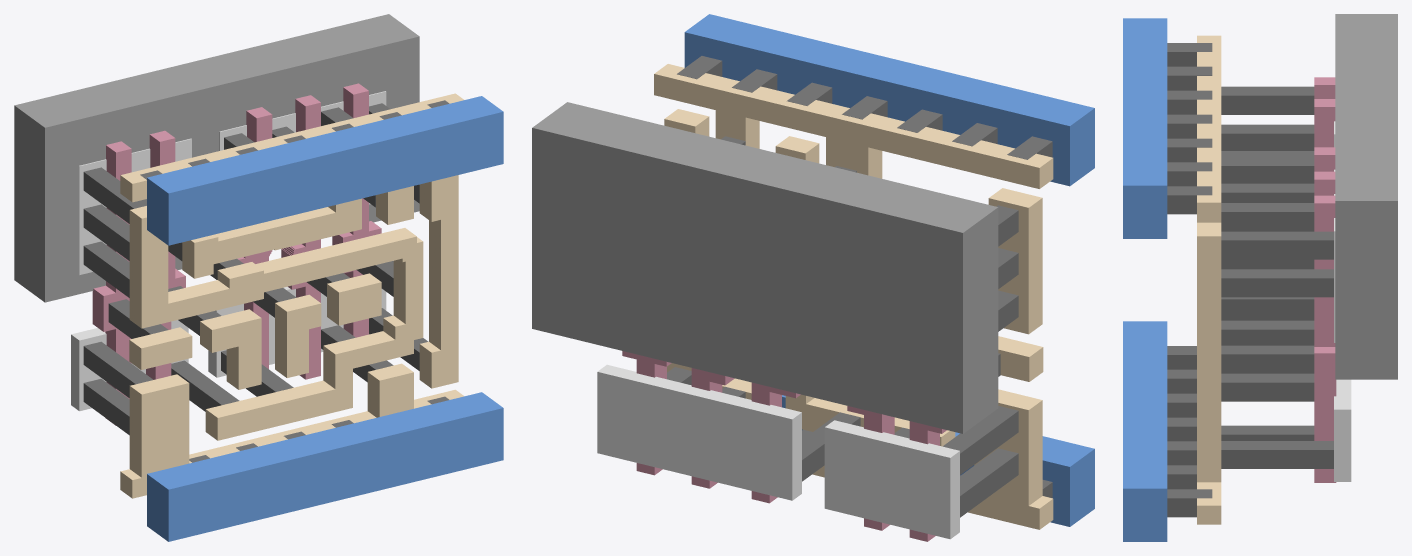
Rendered from sky130_fd_sc_hd__a22o_1.gds.gltf.
The picture shows the model from 3 angles, left to right: view 1: azimuth 30°, elevation 25°; view 2: azimuth 150°, elevation 25°; view 3: azimuth 270°, elevation 25°; orthographic projection. The views are drawn at different scales.
Parts seen in each view (by area): view 1: sky130_fd_sc_hd__a22o_1_li1, sky130_fd_sc_hd__a22o_1_met1, sky130_fd_sc_hd__a22o_1_nwell, sky130_fd_sc_hd__a22o_1_licon, sky130_fd_sc_hd__a22o_1_poly, sky130_fd_sc_hd__a22o_1_diff, sky130_fd_sc_hd__a22o_1_mcon; view 2: sky130_fd_sc_hd__a22o_1_nwell, sky130_fd_sc_hd__a22o_1_li1, sky130_fd_sc_hd__a22o_1_diff, sky130_fd_sc_hd__a22o_1_met1, sky130_fd_sc_hd__a22o_1_licon, sky130_fd_sc_hd__a22o_1_mcon, sky130_fd_sc_hd__a22o_1_poly; view 3: sky130_fd_sc_hd__a22o_1_licon, sky130_fd_sc_hd__a22o_1_nwell, sky130_fd_sc_hd__a22o_1_met1, sky130_fd_sc_hd__a22o_1_mcon, sky130_fd_sc_hd__a22o_1_li1, sky130_fd_sc_hd__a22o_1_poly, sky130_fd_sc_hd__a22o_1_diff.
Boxes of the visible parts, x1=… form: sky130_fd_sc_hd__a22o_1_li1: x1=120, y1=93, x2=463, y2=498; sky130_fd_sc_hd__a22o_1_met1: x1=147, y1=96, x2=503, y2=541; sky130_fd_sc_hd__a22o_1_nwell: x1=14, y1=14, x2=419, y2=302; sky130_fd_sc_hd__a22o_1_licon: x1=83, y1=103, x2=428, y2=435; sky130_fd_sc_hd__a22o_1_poly: x1=92, y1=83, x2=381, y2=425; sky130_fd_sc_hd__a22o_1_diff: x1=71, y1=91, x2=386, y2=411; sky130_fd_sc_hd__a22o_1_mcon: x1=140, y1=100, x2=449, y2=462; sky130_fd_sc_hd__a22o_1_nwell: x1=532, y1=102, x2=998, y2=433; sky130_fd_sc_hd__a22o_1_li1: x1=654, y1=64, x2=1053, y2=529; sky130_fd_sc_hd__a22o_1_diff: x1=597, y1=364, x2=959, y2=539; sky130_fd_sc_hd__a22o_1_met1: x1=684, y1=14, x2=1094, y2=526; sky130_fd_sc_hd__a22o_1_licon: x1=667, y1=136, x2=1018, y2=517; sky130_fd_sc_hd__a22o_1_mcon: x1=677, y1=56, x2=1052, y2=498; sky130_fd_sc_hd__a22o_1_poly: x1=622, y1=351, x2=946, y2=541; sky130_fd_sc_hd__a22o_1_licon: x1=1221, y1=86, x2=1333, y2=468; sky130_fd_sc_hd__a22o_1_nwell: x1=1335, y1=14, x2=1397, y2=379; sky130_fd_sc_hd__a22o_1_met1: x1=1123, y1=18, x2=1167, y2=541; sky130_fd_sc_hd__a22o_1_mcon: x1=1167, y1=43, x2=1212, y2=517; sky130_fd_sc_hd__a22o_1_li1: x1=1197, y1=35, x2=1221, y2=524; sky130_fd_sc_hd__a22o_1_poly: x1=1314, y1=77, x2=1336, y2=482; sky130_fd_sc_hd__a22o_1_diff: x1=1334, y1=121, x2=1351, y2=481.
Size of the model in its own units: 3.6 by 3.2 by 2.24.
